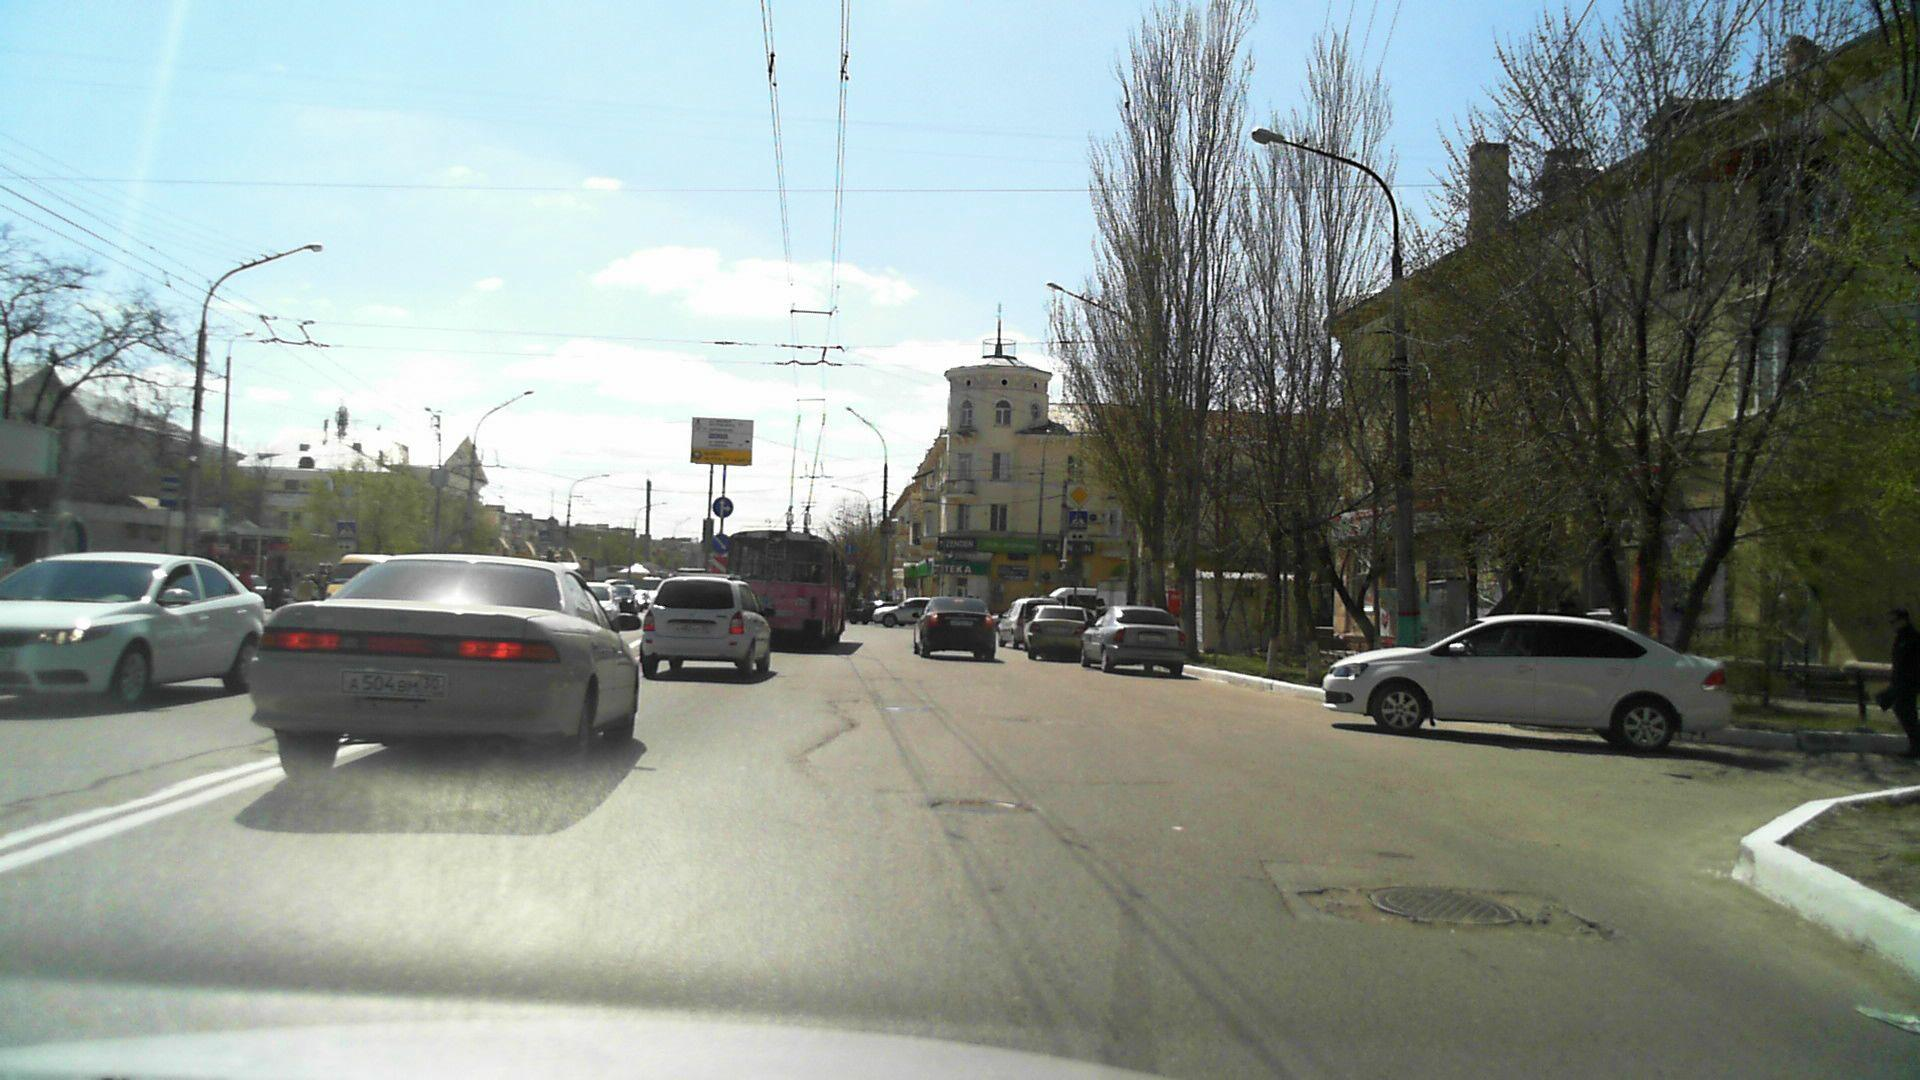2_1: (1065, 484, 1092, 508)
4_1_1: (844, 543, 856, 555)
4_1_4: (712, 496, 735, 518)
4_2_1: (712, 534, 729, 553)
5_16: (160, 475, 178, 508)
5_19_1: (1069, 510, 1088, 530)
5_19_2: (338, 520, 357, 539)
8_15: (1067, 530, 1087, 542), (338, 541, 356, 553)
8_22_1: (712, 555, 727, 574)
